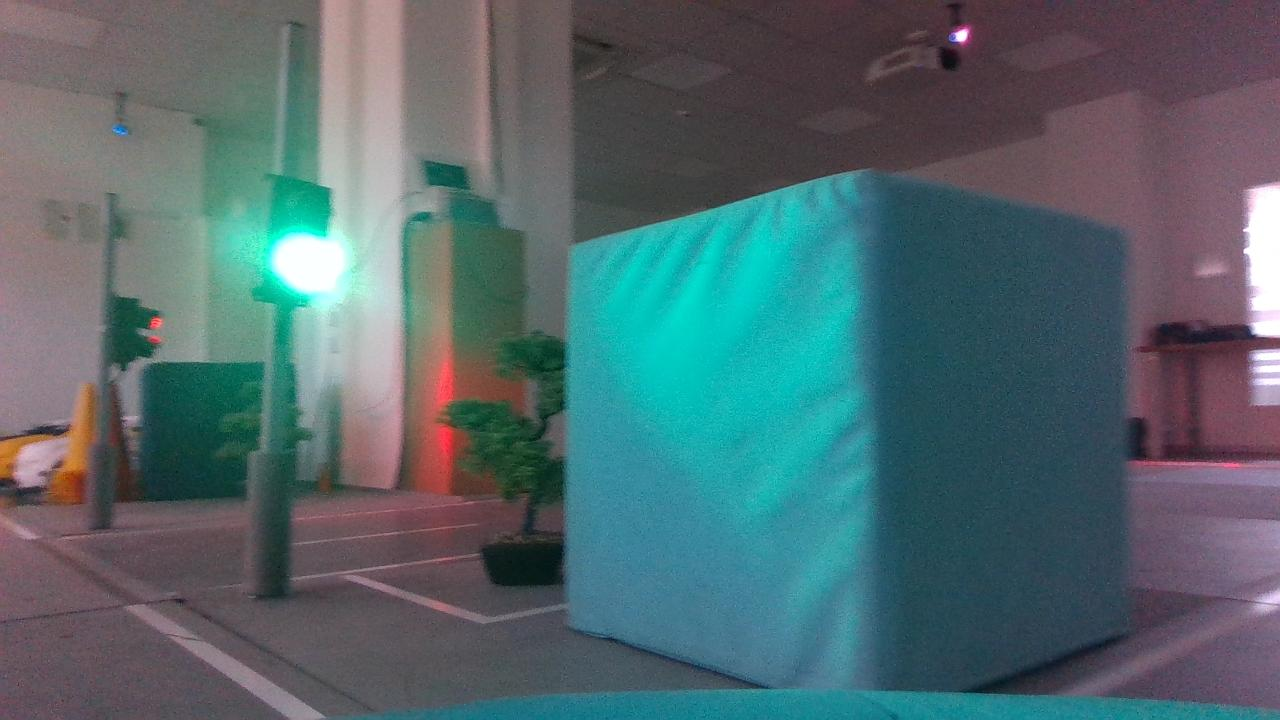traffic_light_green: (229, 157, 362, 327)
